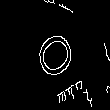O_SW: (30, 24, 80, 86)
